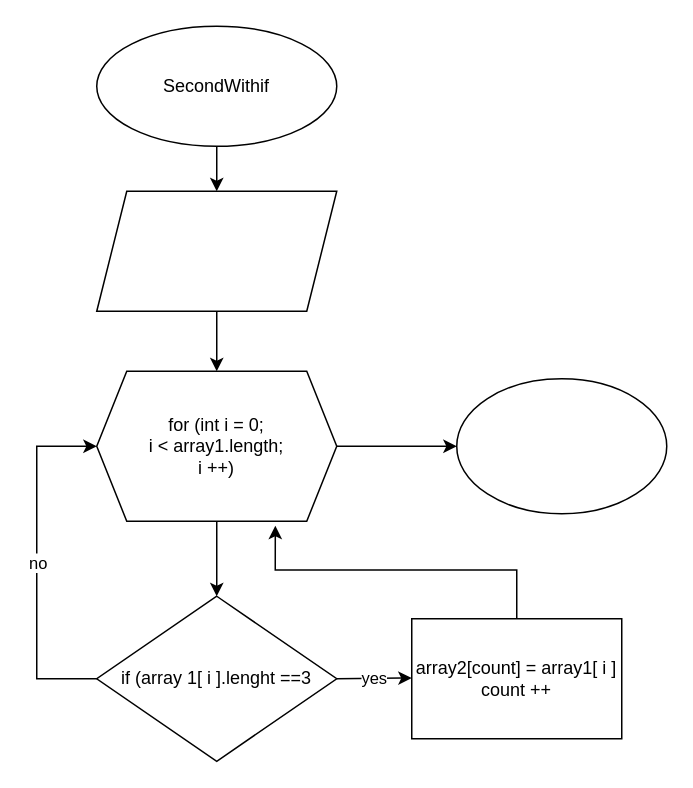
Some shapes in this 693 by 788 pixel diagram are drawn without their labels. The box of each missing label's shape, as (x1, y1, x2, y2) in pixels:
end: (455, 377, 667, 514)
string[] array1 string array2 int count =0: (95, 190, 337, 311)
